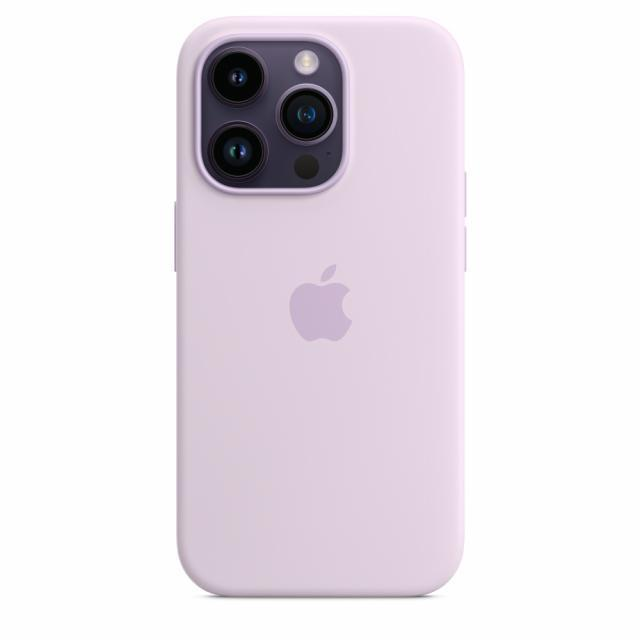phone: (169, 15, 469, 598)
